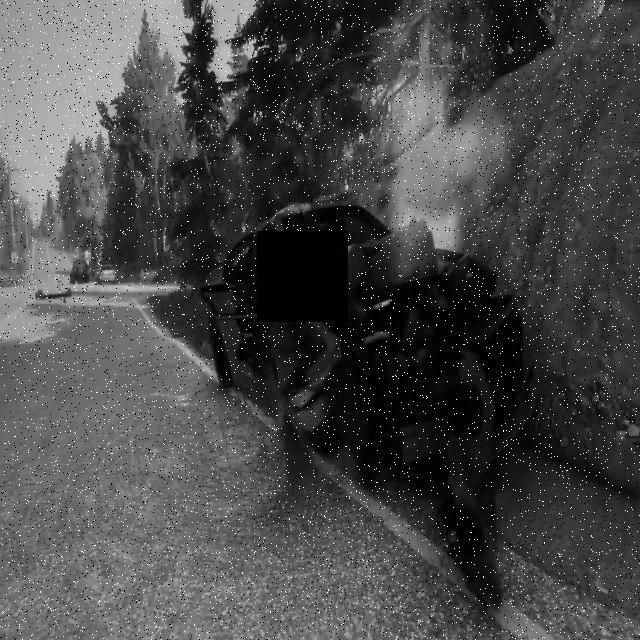vehicle: (219, 175, 608, 614)
